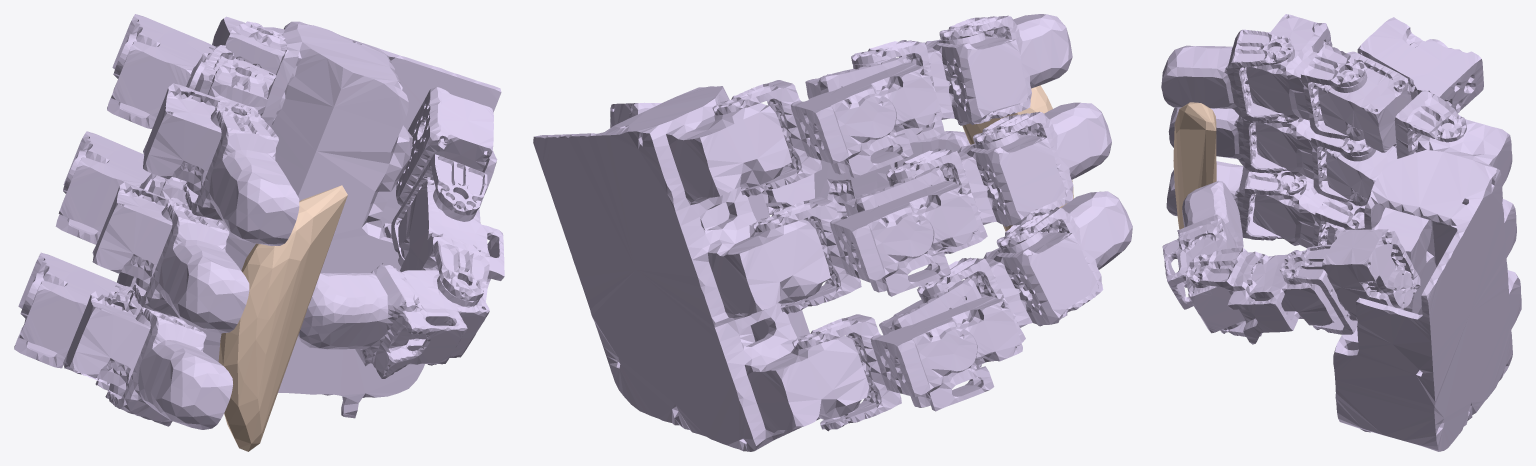
Rendered from f8a55d8de5e4c9-closed.glb.
3 views of the same model, side by side, from view 1: azimuth 30°, elevation 25°; view 2: azimuth 150°, elevation 25°; view 3: azimuth 270°, elevation 25° (orthographic). The views are drawn at different scales.
Parts seen in each view (by area): view 1: LEAP_hand, world; view 2: LEAP_hand, world; view 3: LEAP_hand, world.
Boxes of the visible parts, bbox=[...] form: LEAP_hand: bbox=[14, 14, 504, 429]; world: bbox=[218, 185, 347, 451]; LEAP_hand: bbox=[533, 14, 1132, 451]; world: bbox=[962, 85, 1073, 231]; LEAP_hand: bbox=[1161, 14, 1521, 451]; world: bbox=[1173, 102, 1216, 229].
Size of the model in its own units: 0.2035 by 0.1552 by 0.1523.
